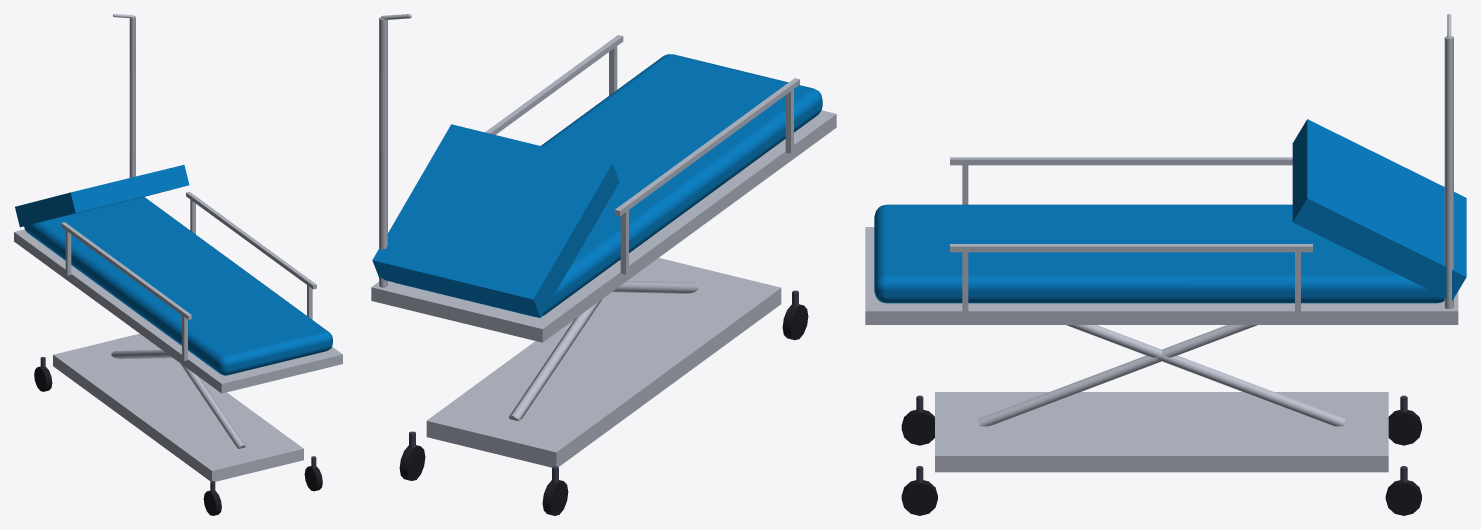
Rendered from trk-014.glb.
The picture shows the model from 3 angles, left to right: view 1: azimuth 30°, elevation 25°; view 2: azimuth 150°, elevation 25°; view 3: azimuth 270°, elevation 25°; orthographic projection. The views are drawn at different scales.
Visible parts, largest first — view 1: safety_blue, steel, rubber; view 2: safety_blue, steel, rubber; view 3: steel, safety_blue, rubber.
Part boxes in pixels (x1,y1,x2,y2): safety_blue: (15,165,332,375); steel: (14,14,342,481); rubber: (34,366,322,515); safety_blue: (372,54,822,317); steel: (371,14,836,467); rubber: (399,304,808,515); steel: (865,14,1458,472); safety_blue: (874,119,1466,303); rubber: (901,410,1421,515).
Size of the model in its own units: 0.7 by 1.79 by 1.99.
